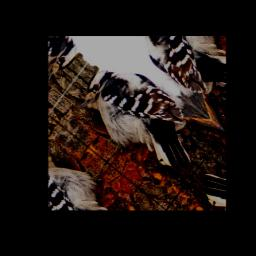Woodpecker: (57, 44, 224, 209)
